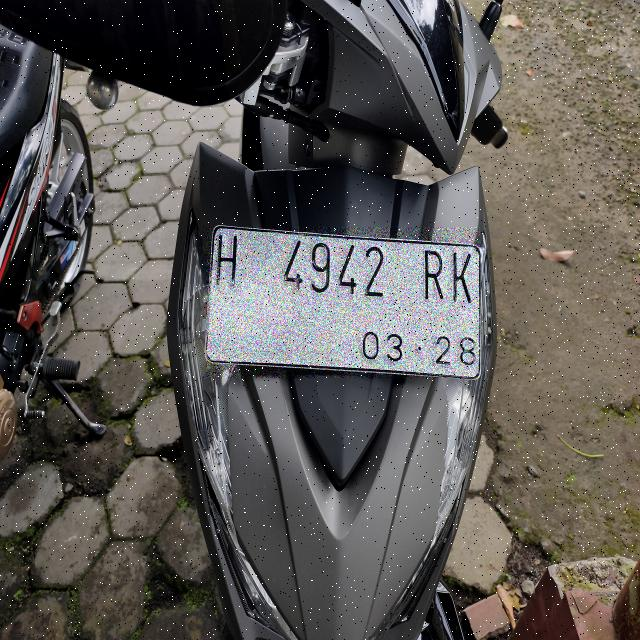plate: (207, 227, 479, 377)
